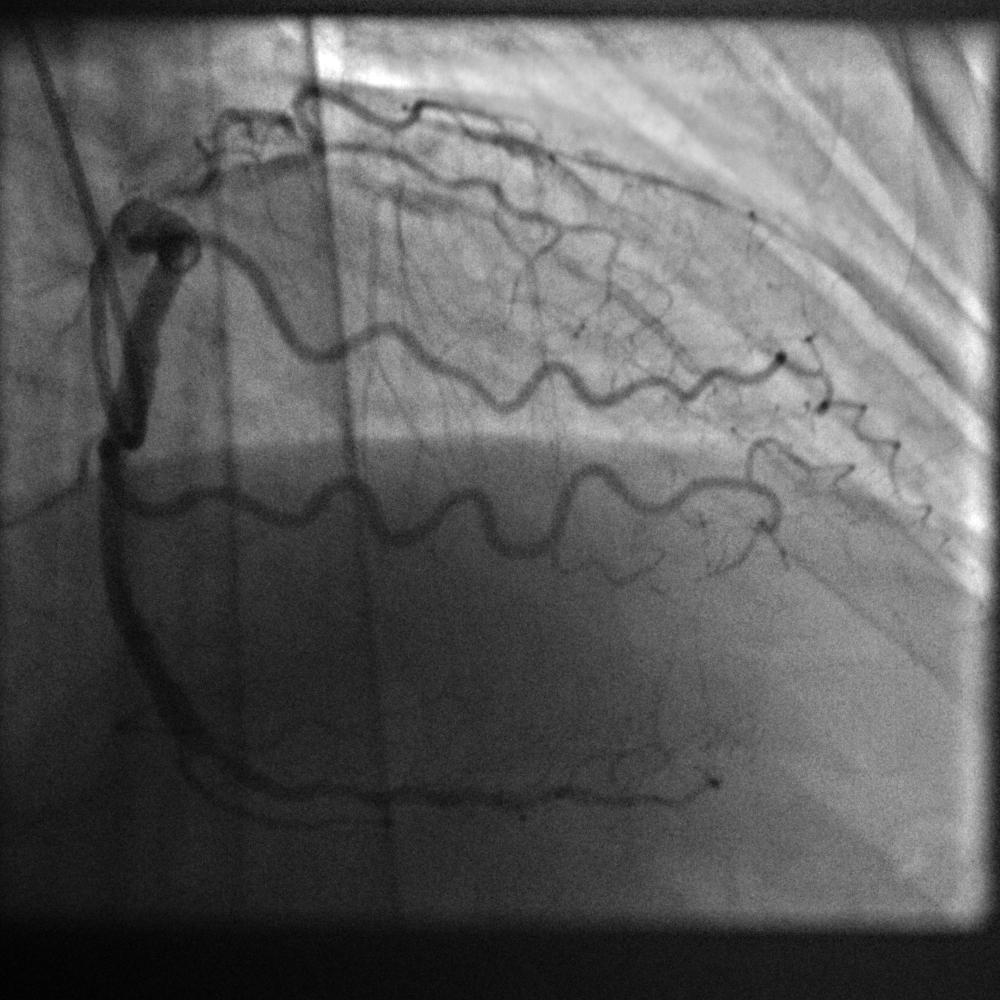Stenosis: (180, 721, 238, 777)
